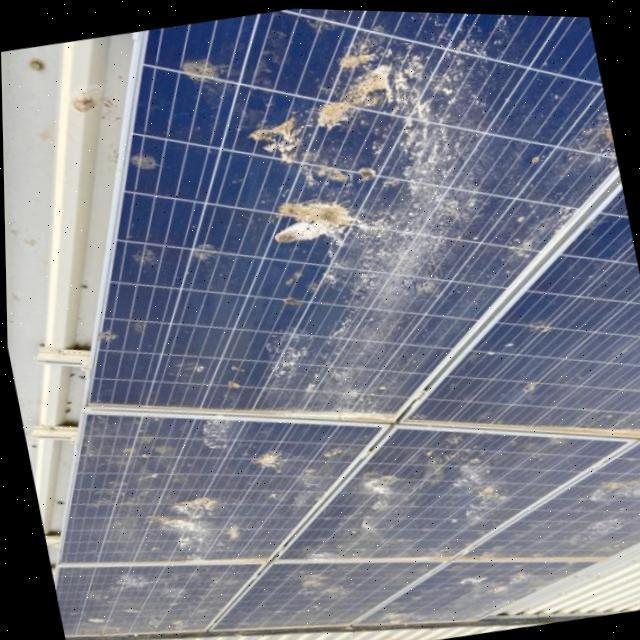Anomaly Solar Panel: (19, 7, 640, 458), (365, 158, 640, 462), (58, 412, 376, 578), (277, 423, 626, 573), (49, 563, 267, 637), (210, 562, 440, 628)
Surface Contaminant: (228, 10, 575, 464), (234, 60, 421, 203), (52, 388, 193, 529), (403, 422, 513, 537), (135, 472, 247, 580), (71, 569, 242, 635), (416, 547, 557, 624), (272, 189, 397, 268), (303, 472, 407, 563), (486, 180, 582, 274), (272, 424, 358, 518), (517, 111, 616, 179), (553, 505, 623, 555), (155, 345, 212, 400), (293, 572, 349, 620), (327, 35, 386, 78), (171, 46, 220, 96), (581, 472, 640, 501), (121, 241, 163, 279), (195, 420, 238, 453), (145, 492, 208, 512), (374, 600, 416, 625), (243, 447, 279, 476), (125, 150, 158, 177), (187, 239, 220, 264), (523, 316, 555, 338), (635, 385, 640, 403)
